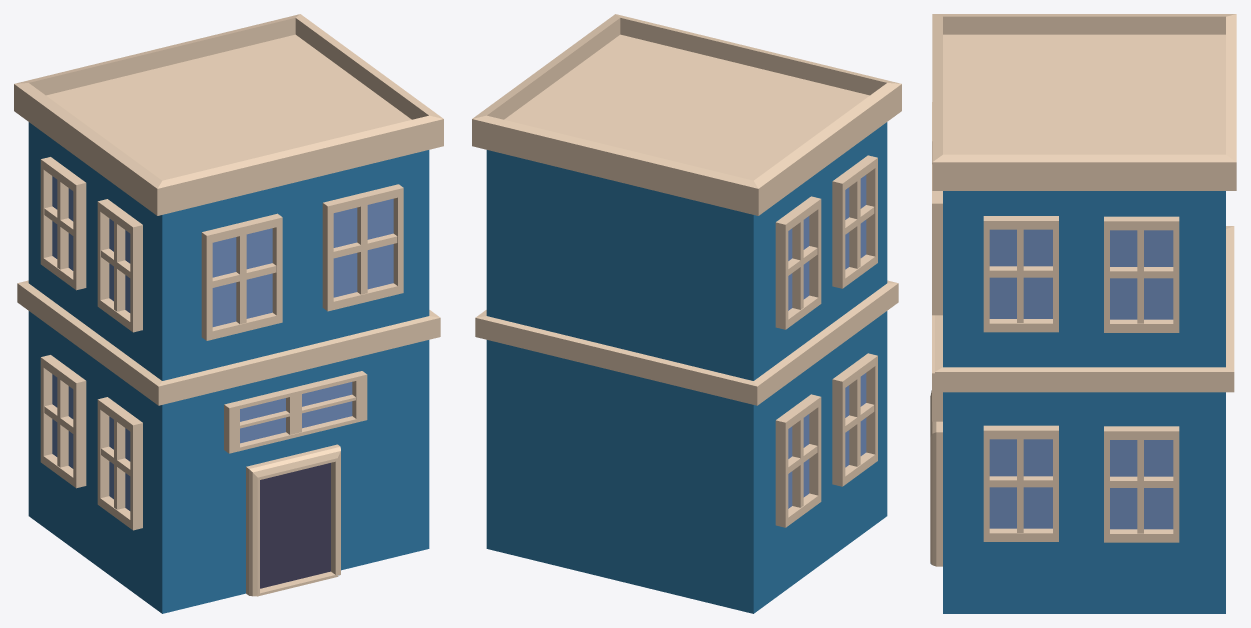
Rendered from building biru.fbx.
3 views of the same model, side by side, from view 1: azimuth 30°, elevation 25°; view 2: azimuth 150°, elevation 25°; view 3: azimuth 270°, elevation 25° (orthographic). The views are drawn at different scales.
Visible parts, largest first — view 1: building biru; view 2: building biru; view 3: building biru.
Boxes of the visible parts, x1=… form: building biru: x1=14, y1=14, x2=443, y2=613; building biru: x1=472, y1=14, x2=901, y2=613; building biru: x1=930, y1=14, x2=1236, y2=613.
Bounding box in the file's own units: 651 × 940 × 568.
1 material, 1 textured.
